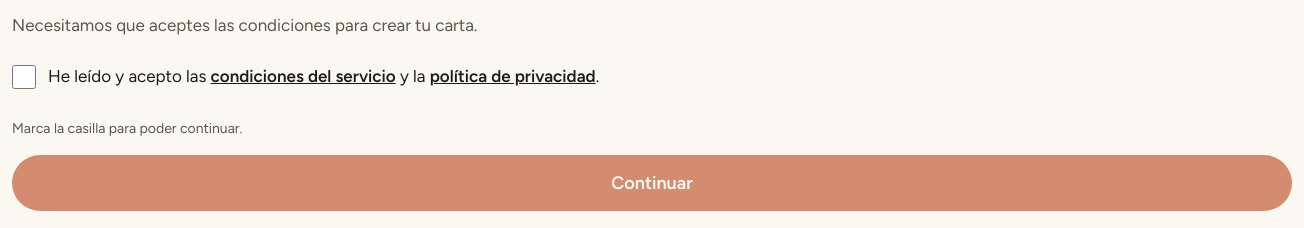
PasoCondiciones › no deja continuar sin la casilla y enlaza a los textos legales en pestaña nueva
The width and height of the screenshot is (1304, 228).
Expected: the button "Continuar" is disabled, 12,155 -> 1292,211
Click the checkbox: {"x": 24, "y": 77} 12,65 -> 36,89
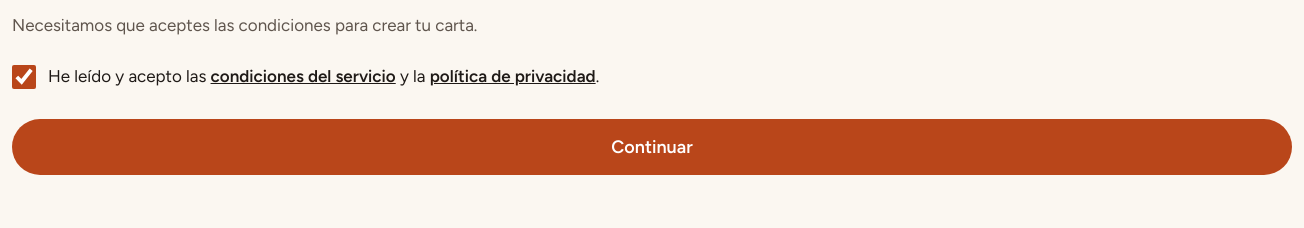
Expected: the button "Continuar" is enabled, 12,119 -> 1292,175
